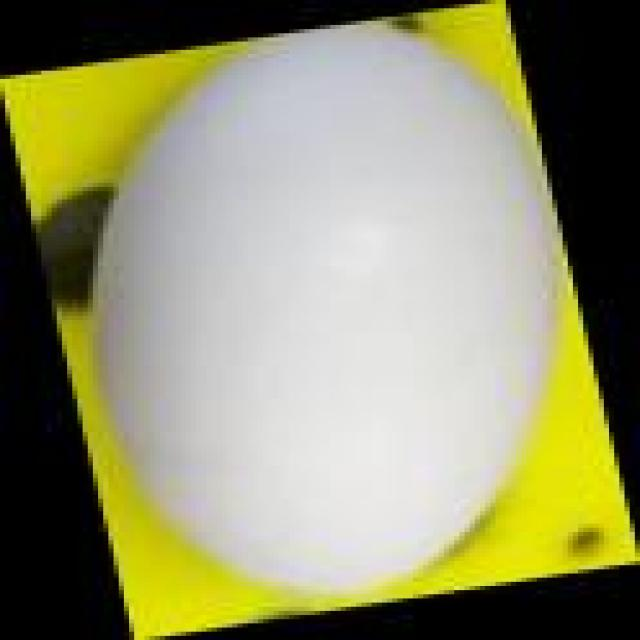Egg: (68, 11, 578, 610)
